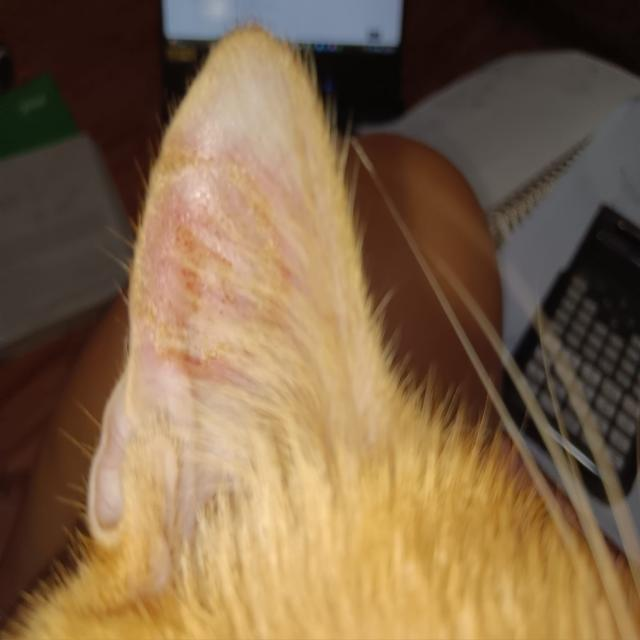Mange: (158, 176, 228, 268), (163, 310, 221, 388), (250, 155, 290, 195)
